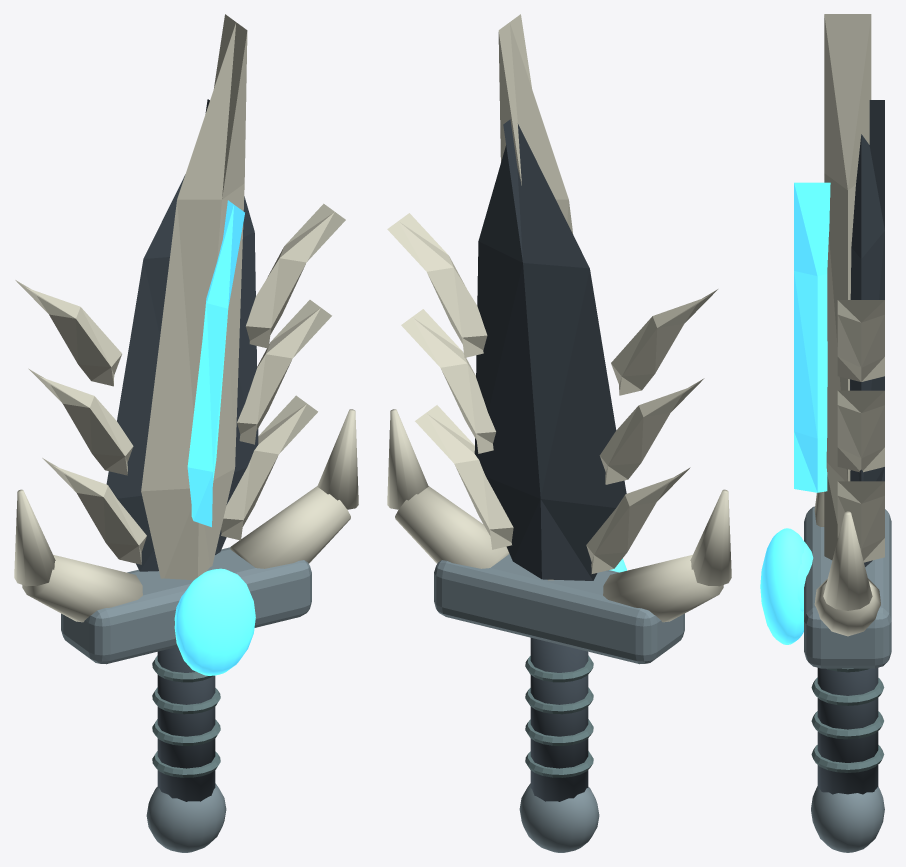
Rendered from YK_00_Muk_Weapon_E03.glb.
The picture shows the model from 3 angles, left to right: view 1: azimuth 30°, elevation 25°; view 2: azimuth 150°, elevation 25°; view 3: azimuth 270°, elevation 25°; orthographic projection. The views are drawn at different scales.
Parts seen in each view (by area): view 1: SM_YK_00_Muk_Weapon_P00, SM_YK_00_Muk_Weapon_P01, SM_YK_00_Muk_Weapon_P02, SM_YK_00_Muk_Weapon_P03; view 2: SM_YK_00_Muk_Weapon_P01, SM_YK_00_Muk_Weapon_P00, SM_YK_00_Muk_Weapon_P02; view 3: SM_YK_00_Muk_Weapon_P00, SM_YK_00_Muk_Weapon_P03, SM_YK_00_Muk_Weapon_P01, SM_YK_00_Muk_Weapon_P02.
Boxes of the visible parts, box(x1,y1,x2,y2) form: SM_YK_00_Muk_Weapon_P00: box(61, 14, 311, 852); SM_YK_00_Muk_Weapon_P01: box(14, 99, 358, 622); SM_YK_00_Muk_Weapon_P02: box(15, 203, 345, 564); SM_YK_00_Muk_Weapon_P03: box(174, 200, 255, 675); SM_YK_00_Muk_Weapon_P01: box(387, 119, 731, 622); SM_YK_00_Muk_Weapon_P00: box(434, 14, 684, 852); SM_YK_00_Muk_Weapon_P02: box(387, 213, 717, 573); SM_YK_00_Muk_Weapon_P00: box(797, 14, 891, 852); SM_YK_00_Muk_Weapon_P03: box(760, 182, 830, 644); SM_YK_00_Muk_Weapon_P01: box(814, 100, 884, 636); SM_YK_00_Muk_Weapon_P02: box(837, 300, 884, 562).
Bounding box in the file's own units: 0.6119 × 1.41 × 0.195.
